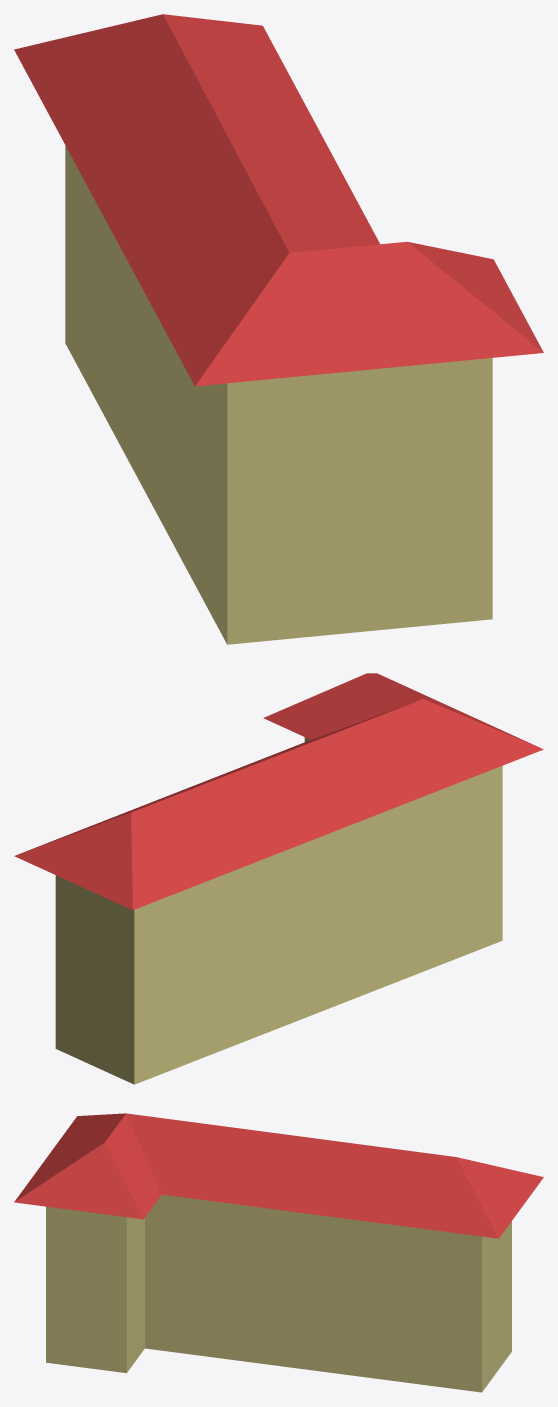
3 views of the same model, one above another, from view 1: azimuth 30°, elevation 25°; view 2: azimuth 150°, elevation 25°; view 3: azimuth 270°, elevation 25° (orthographic). The views are drawn at different scales.
Parts seen in each view (by area): view 1: group_5, group_3, group_4; view 2: group_5, group_3, group_4; view 3: group_5, group_3, group_4.
Boxes of the visible parts, box(x1,y1,x2,y2) form: group_5: box(65, 145, 492, 644); group_3: box(14, 14, 542, 386); group_4: box(16, 21, 543, 385); group_5: box(55, 737, 502, 1084); group_3: box(21, 673, 543, 909); group_4: box(14, 673, 542, 909); group_5: box(46, 1194, 511, 1392); group_3: box(14, 1113, 542, 1238); group_4: box(14, 1140, 543, 1238).
Bounding box in the file's own units: 8.5 × 15.53 × 6.77.
